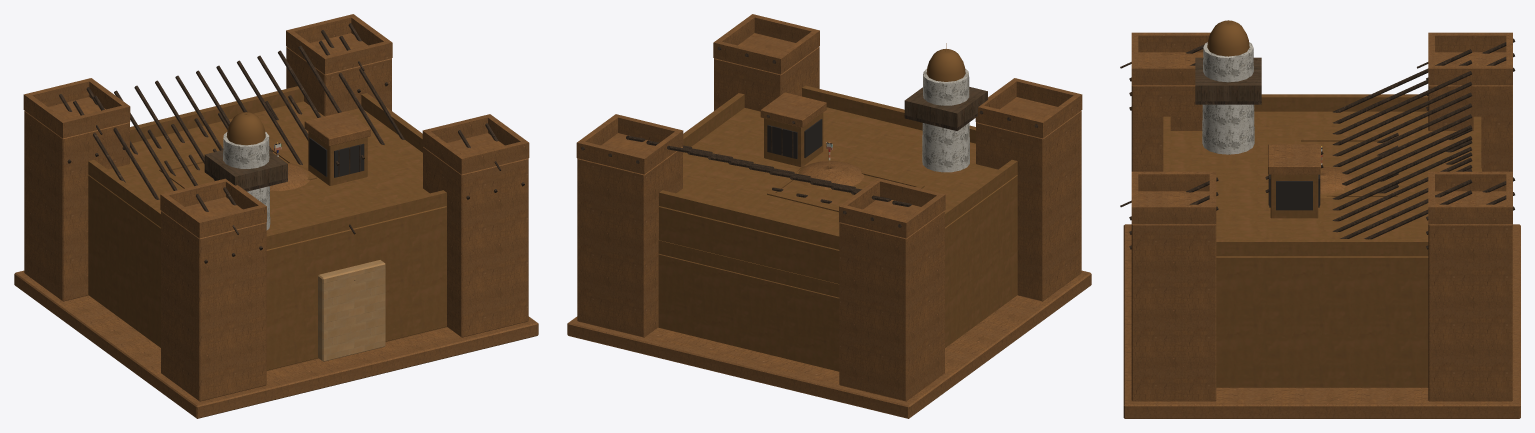
The model's file is mudbrick.glb.
The picture shows the model from 3 angles, left to right: view 1: azimuth 30°, elevation 25°; view 2: azimuth 150°, elevation 25°; view 3: azimuth 270°, elevation 25°; orthographic projection. The views are drawn at different scales.
Parts seen in each view (by area): view 1: palace_mb_mesh, mosque_small_mesh, tower_wind_mesh, house_courtyard_mb_mesh, house_flat_b_mesh, shrine_mb_mesh; view 2: palace_mb_mesh, house_courtyard_mb_mesh, mosque_small_mesh, tower_wind_mesh, shrine_mb_mesh, house_flat_b_mesh; view 3: palace_mb_mesh, mosque_small_mesh, tower_wind_mesh, house_flat_b_mesh, shrine_mb_mesh.
Boxes of the visible parts, box(x1,y1,x2,y2) form: palace_mb_mesh: box(14, 14, 538, 418); mosque_small_mesh: box(204, 112, 309, 230); tower_wind_mesh: box(304, 111, 370, 185); house_courtyard_mb_mesh: box(130, 95, 446, 370); house_flat_b_mesh: box(159, 143, 316, 189); shrine_mb_mesh: box(269, 163, 309, 190); palace_mb_mesh: box(567, 14, 1091, 418); house_courtyard_mb_mesh: box(658, 240, 839, 371); mosque_small_mesh: box(797, 43, 987, 189); tower_wind_mesh: box(760, 92, 826, 167); shrine_mb_mesh: box(800, 161, 864, 189); house_flat_b_mesh: box(767, 159, 924, 212); palace_mb_mesh: box(1120, 32, 1520, 418); mosque_small_mesh: box(1195, 20, 1357, 198); tower_wind_mesh: box(1265, 144, 1323, 218); house_flat_b_mesh: box(1294, 133, 1398, 196); shrine_mb_mesh: box(1320, 167, 1354, 194).
Size of the model in its own units: 16.2 by 11.5 by 15.14.
12 materials, 9 textured.
